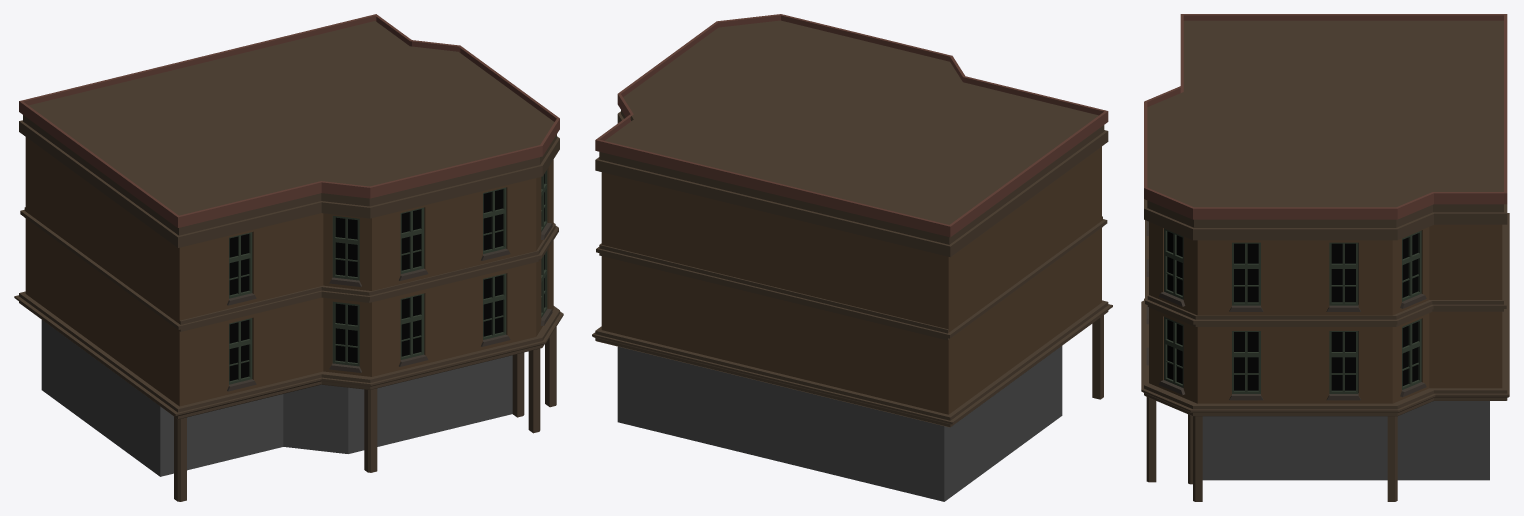
The model's file is Building3.fbx.
3 renders of one model, left to right at view 1: azimuth 30°, elevation 25°; view 2: azimuth 150°, elevation 25°; view 3: azimuth 270°, elevation 25°, orthographic. The views are drawn at different scales.
Parts seen in each view (by area): view 1: Cube; view 2: Cube; view 3: Cube.
Part boxes in pixels (x1,y1,x2,y2): Cube: (14, 14, 563, 501); Cube: (592, 14, 1112, 501); Cube: (1141, 14, 1509, 501).
Size of the model in its own units: 1918 by 1333 by 1512.
